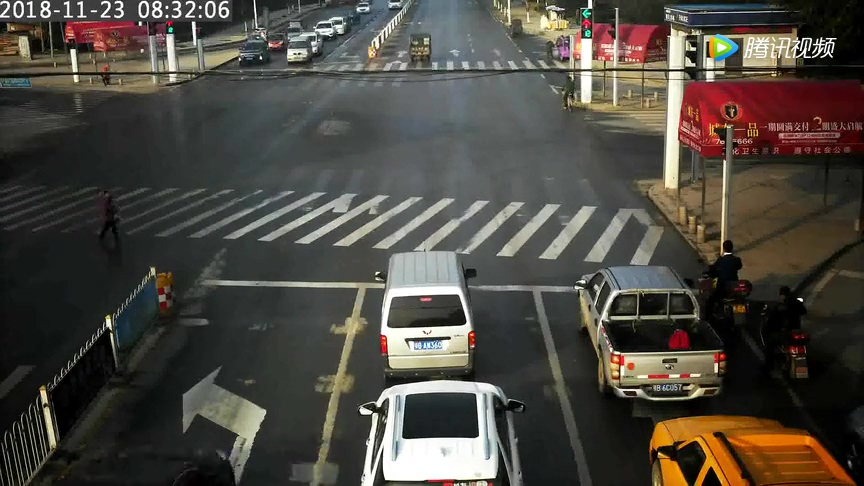car: (572, 252, 722, 406), (360, 246, 499, 390), (398, 26, 444, 71), (226, 36, 273, 78), (285, 36, 314, 73), (307, 18, 337, 40), (353, 1, 372, 17), (387, 1, 406, 12)
person: (703, 236, 746, 334), (87, 191, 143, 266), (560, 73, 576, 119), (93, 66, 114, 90)
